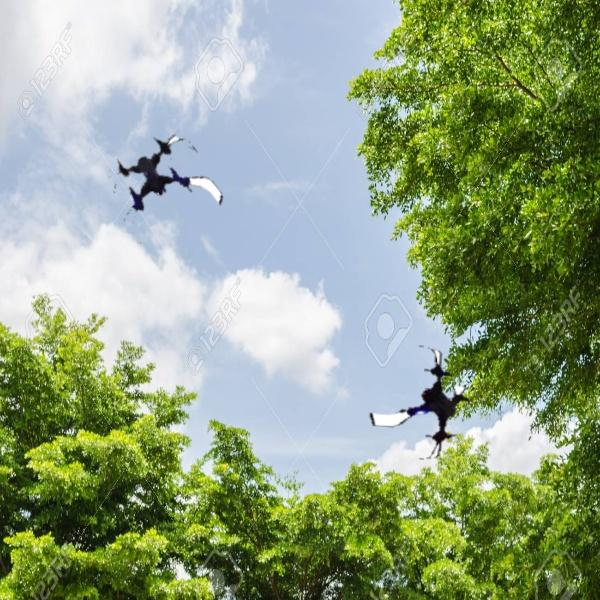drone: (361, 342, 481, 462), (102, 131, 220, 249)
